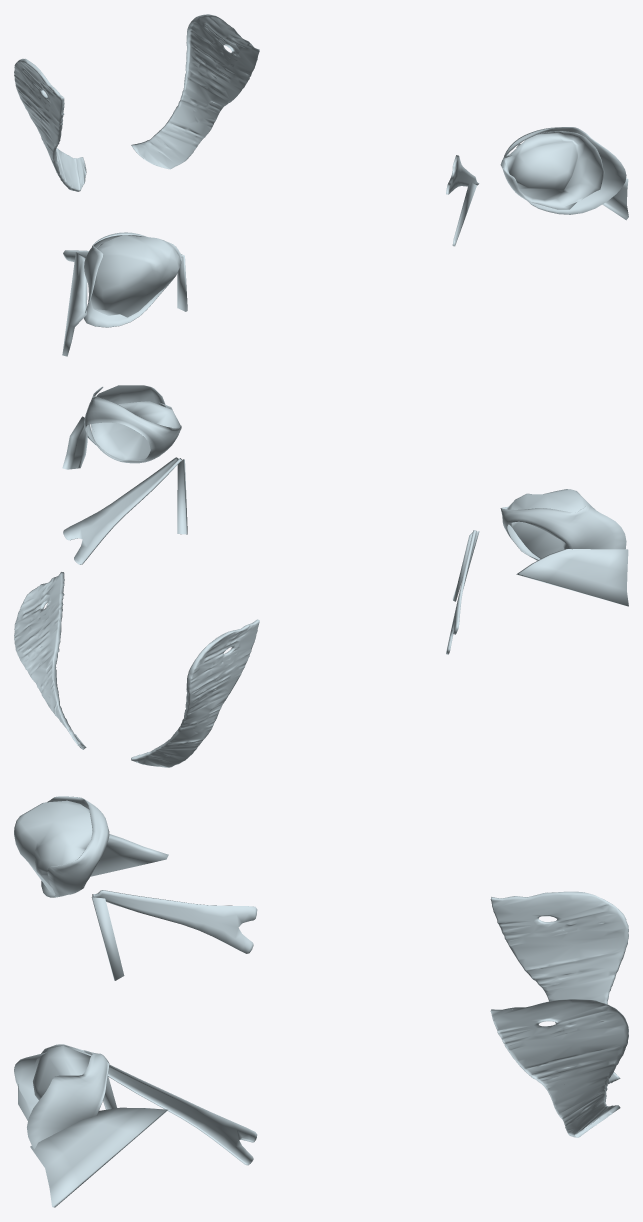
File: head__joints.7b5680ec03.glb
The picture shows the model from 3 angles, top to bottom: view 1: azimuth 30°, elevation 25°; view 2: azimuth 150°, elevation 25°; view 3: azimuth 270°, elevation 25°; orthographic projection. The views are drawn at different scales.
Visible parts, largest first — view 1: Quadrangular membrane.l, Articular disc of temporomandibular joint.l, Articular disc of temporomandibular joint.r, Quadrangular membrane.r, Articular capsule of temporomandibular joint.l, Articular capsule of temporomandibular joint.r, Lateral temporomandibular ligament.l, Sphenomandibular ligament.l, Lateral temporomandibular ligament.r, Pterygospinous ligament.r; view 2: Quadrangular membrane.r, Quadrangular membrane.l, Lateral temporomandibular ligament.l, Articular capsule of temporomandibular joint.r, Articular disc of temporomandibular joint.l, Sphenomandibular ligament.l, Articular capsule of temporomandibular joint.l, Articular disc of temporomandibular joint.r, Lateral temporomandibular ligament.r, Pterygospinous ligament.l, Sphenomandibular ligament.r; view 3: Quadrangular membrane.l, Quadrangular membrane.r, Lateral temporomandibular ligament.r, Articular disc of temporomandibular joint.r, Articular capsule of temporomandibular joint.l, Sphenomandibular ligament.r, Sphenomandibular ligament.l, Articular disc of temporomandibular joint.l, Articular capsule of temporomandibular joint.r, Lateral temporomandibular ligament.l, Pterygospinous ligament.r.
Boxes of the visible parts, x1,y1,x2,y2 form: Quadrangular membrane.l: [131, 14, 259, 169]; Articular disc of temporomandibular joint.l: [502, 131, 604, 209]; Articular disc of temporomandibular joint.r: [91, 235, 181, 317]; Quadrangular membrane.r: [14, 58, 86, 191]; Articular capsule of temporomandibular joint.l: [500, 127, 626, 214]; Articular capsule of temporomandibular joint.r: [84, 232, 181, 327]; Lateral temporomandibular ligament.l: [62, 252, 87, 356]; Sphenomandibular ligament.l: [446, 155, 479, 194]; Lateral temporomandibular ligament.r: [516, 144, 628, 220]; Pterygospinous ligament.r: [177, 254, 187, 311]; Quadrangular membrane.r: [131, 619, 259, 767]; Quadrangular membrane.l: [14, 572, 86, 749]; Lateral temporomandibular ligament.l: [516, 549, 628, 606]; Articular capsule of temporomandibular joint.r: [500, 505, 626, 560]; Articular disc of temporomandibular joint.l: [90, 385, 180, 460]; Sphenomandibular ligament.l: [63, 457, 181, 564]; Articular capsule of temporomandibular joint.l: [84, 386, 181, 463]; Articular disc of temporomandibular joint.r: [506, 489, 595, 558]; Lateral temporomandibular ligament.r: [62, 416, 87, 469]; Pterygospinous ligament.l: [177, 459, 187, 534]; Sphenomandibular ligament.r: [446, 530, 479, 654]; Quadrangular membrane.l: [490, 999, 628, 1137]; Quadrangular membrane.r: [490, 891, 628, 1084]; Lateral temporomandibular ligament.r: [30, 1107, 168, 1207]; Articular disc of temporomandibular joint.r: [14, 800, 92, 892]; Articular capsule of temporomandibular joint.l: [27, 1050, 109, 1149]; Sphenomandibular ligament.r: [92, 890, 257, 953]; Sphenomandibular ligament.l: [107, 1064, 257, 1165]; Articular disc of temporomandibular joint.l: [14, 1044, 91, 1120]; Articular capsule of temporomandibular joint.r: [41, 796, 109, 897]; Lateral temporomandibular ligament.l: [90, 834, 168, 876]; Pterygospinous ligament.r: [91, 897, 124, 980].
Size of the model in its own units: 117 by 29.44 by 92.92.
